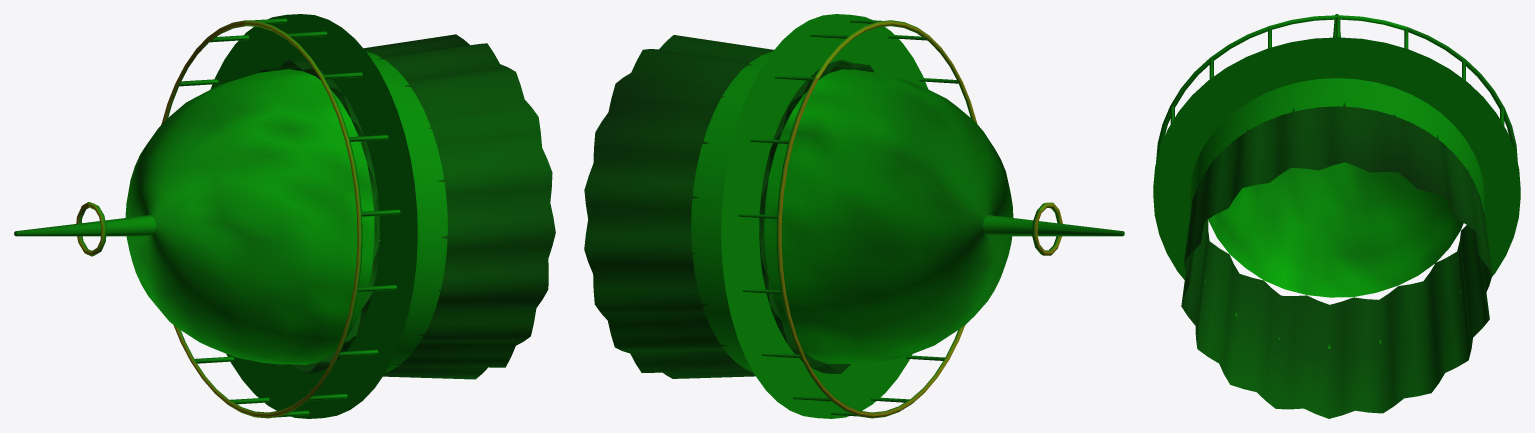
The model's file is iskarra_crown_fallen.glb.
The picture shows the model from 3 angles, left to right: view 1: azimuth 30°, elevation 25°; view 2: azimuth 150°, elevation 25°; view 3: azimuth 270°, elevation 25°; orthographic projection. The views are drawn at different scales.
Visible parts, largest first — view 1: iskarra_crown_fallen; view 2: iskarra_crown_fallen; view 3: iskarra_crown_fallen.
Part boxes in pixels (x1,y1,x2,y2): iskarra_crown_fallen: [14, 14, 555, 418]; iskarra_crown_fallen: [584, 14, 1124, 418]; iskarra_crown_fallen: [1153, 14, 1520, 418].
Size of what is drawn, in the model's own units: 11.15 by 8.28 by 8.2.
